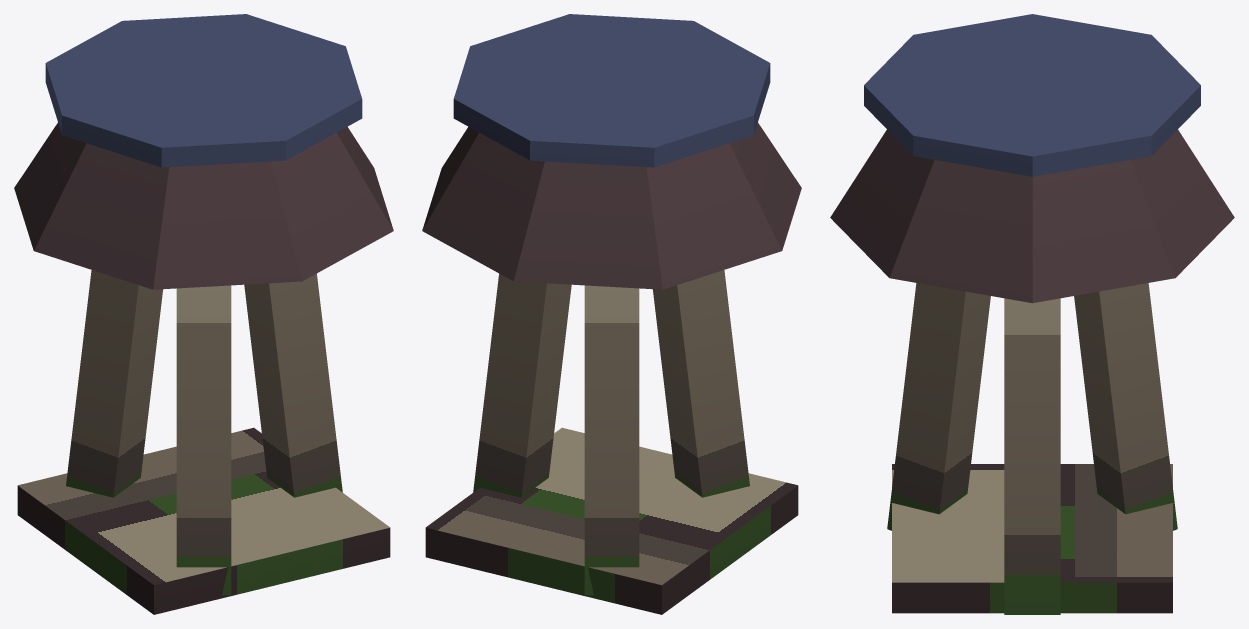
File: brazier.glb
3 renders of one model, left to right at view 1: azimuth 30°, elevation 25°; view 2: azimuth 150°, elevation 25°; view 3: azimuth 270°, elevation 25°, orthographic. The views are drawn at different scales.
Visible parts, largest first — view 1: brazier; view 2: brazier; view 3: brazier.
Part boxes in pixels (x1=…): brazier: x1=14, y1=14, x2=393, y2=614; brazier: x1=422, y1=14, x2=801, y2=614; brazier: x1=830, y1=14, x2=1234, y2=614.
Bounding box in the file's own units: 0.72 × 0.926 × 0.72.
2 materials, 1 textured.
